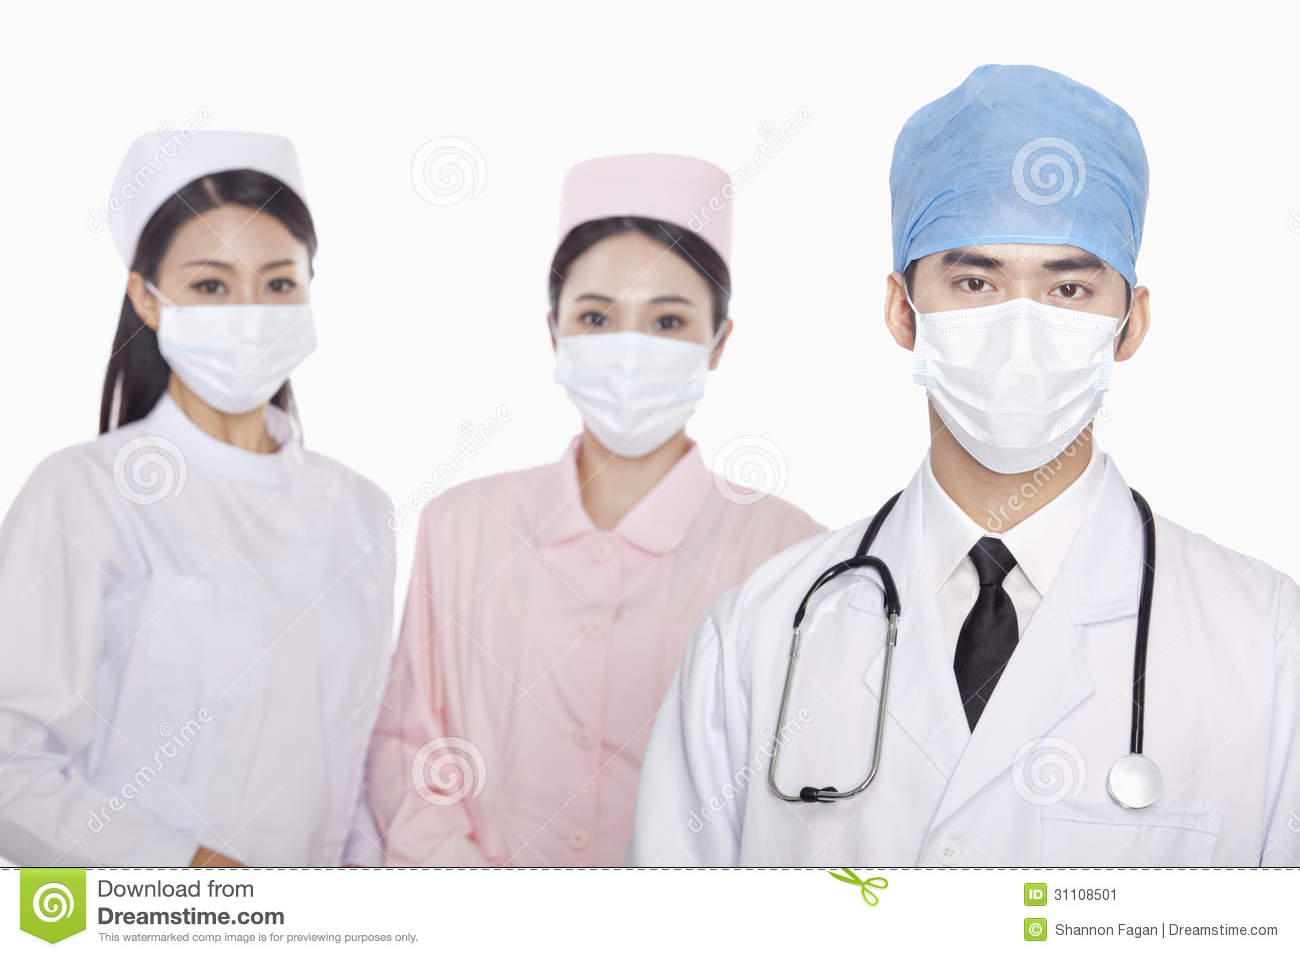mask: (911, 302, 1113, 460), (556, 335, 735, 466), (142, 314, 323, 420)
